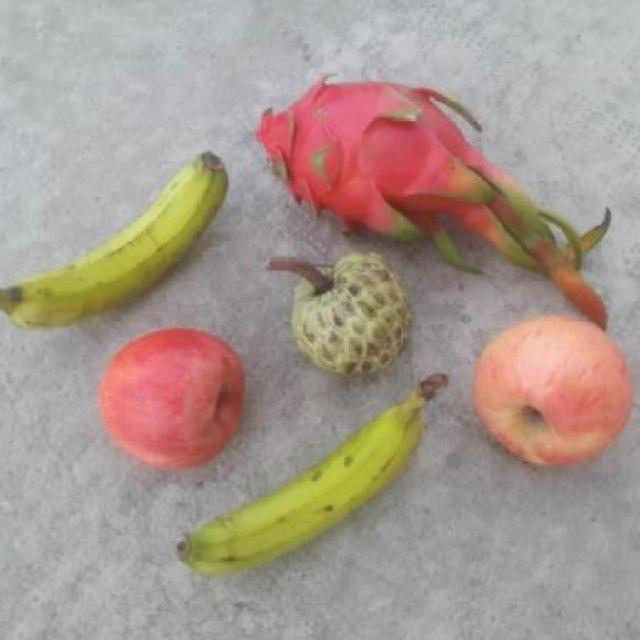apple: (464, 312, 634, 477), (96, 327, 250, 475)
banana: (164, 370, 453, 582), (1, 151, 230, 335)
dragon fruit: (248, 75, 500, 252)
sugar apple: (288, 252, 415, 378)
